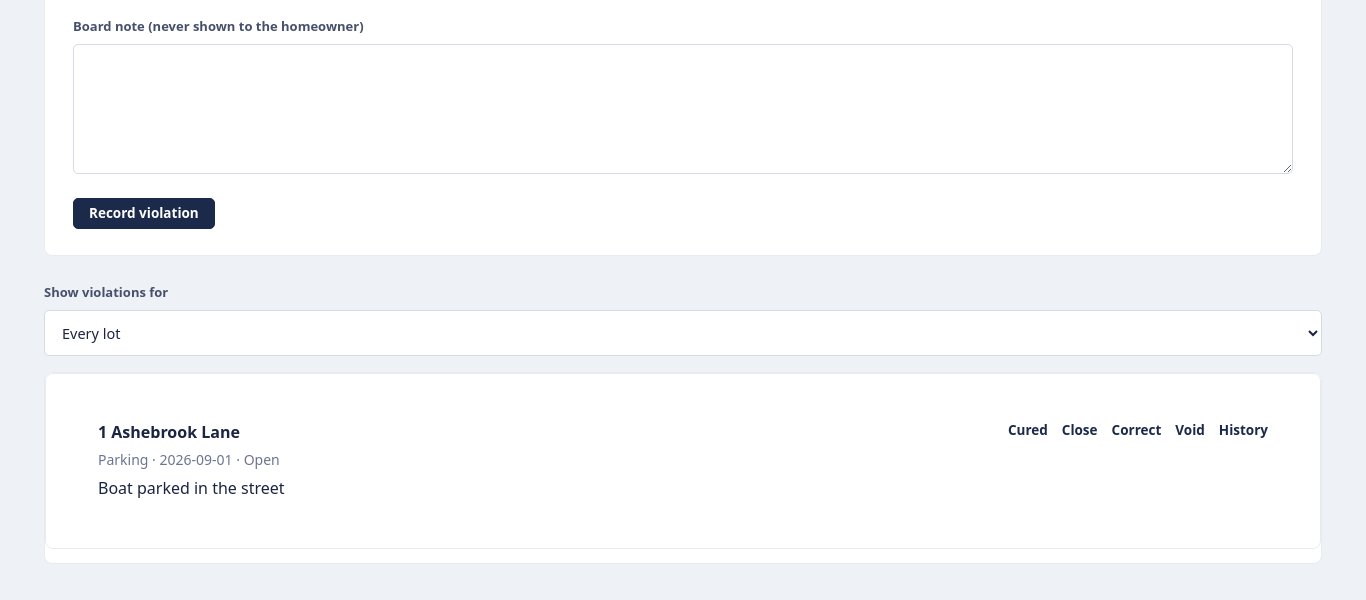
Test: voiding › asks for a reason before it will void, and says what voiding does
(page scrolled)
What coordinates should you click on to do the following:
click the button with aria-label "Void violation"
I would click on:
 (1190, 431)
Its box is x1=1175 y1=420 x2=1205 y2=441.
(page scrolled)
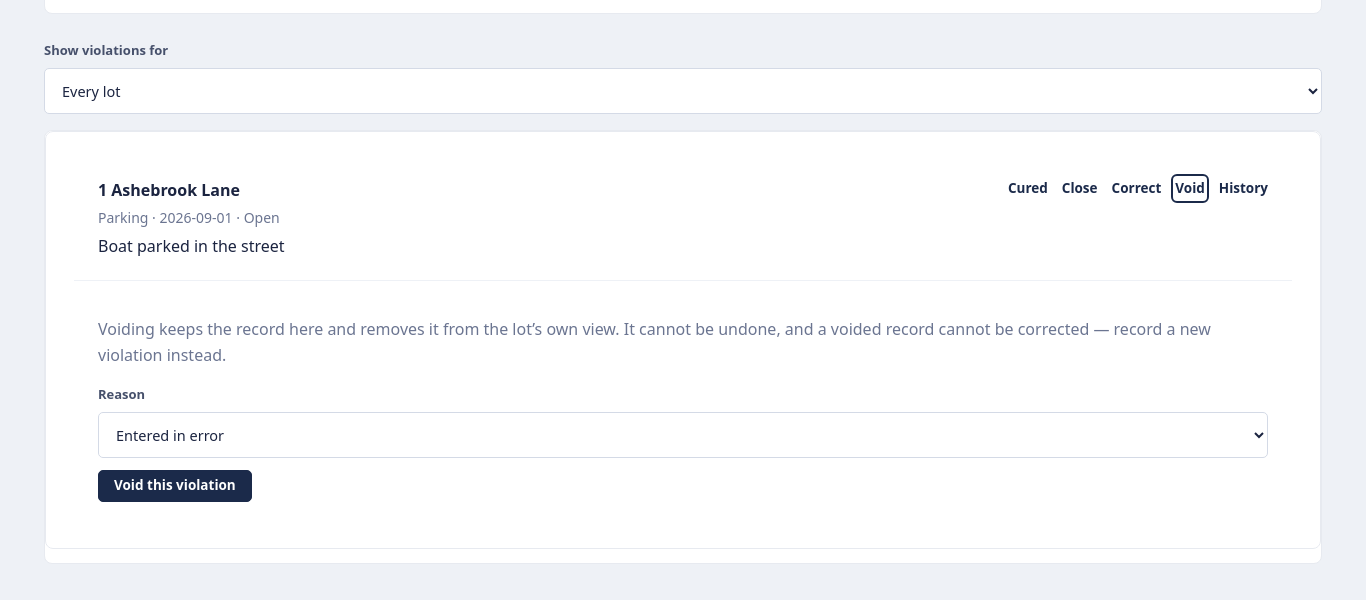
Check: the text "cannot be undone" is shown, box x1=98 y1=318 x2=1211 y2=366
